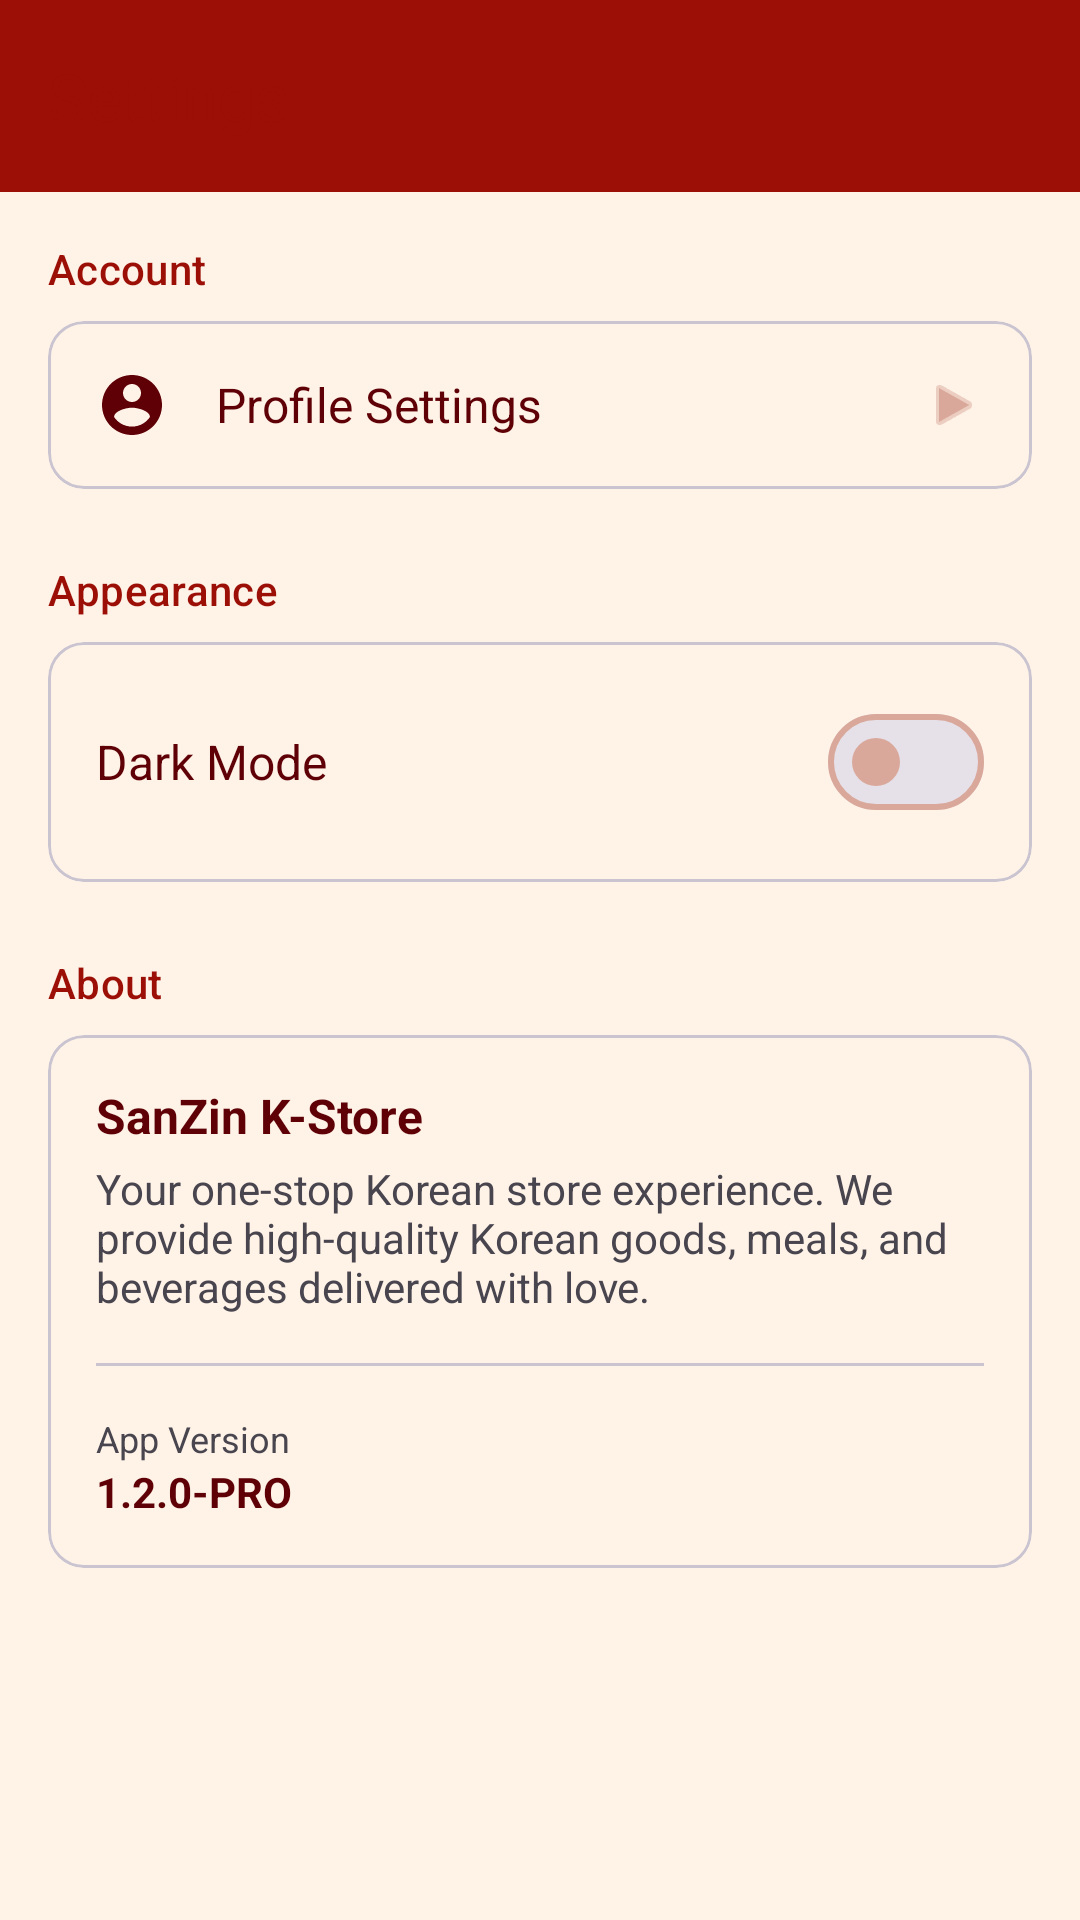

Icon bounding boxes for this 1080x1920 phone screenshot, format (x1, y1, x2, y2):
person: (102, 375, 162, 435)
play: (936, 385, 972, 425)
